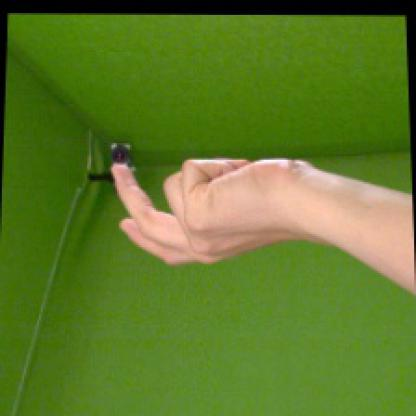Hand: (113, 157, 320, 268)
